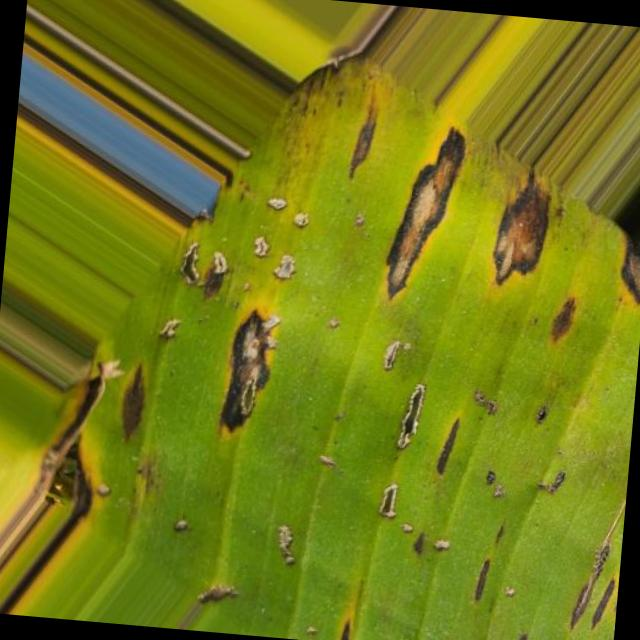Banana_Yellow_Sigatoka: (217, 58, 640, 432), (0, 330, 171, 626)
